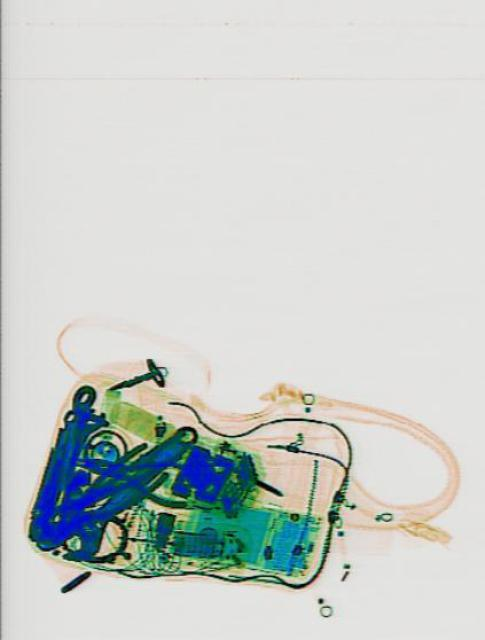Wrench: (50, 410, 206, 570)
